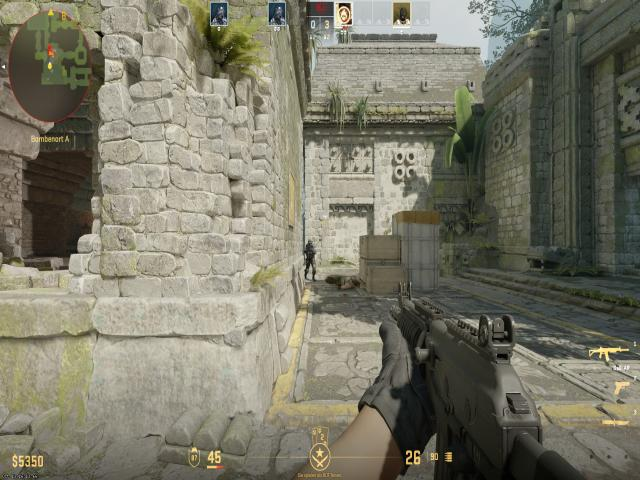CT: (303, 232, 318, 286)
CT-Head: (305, 236, 313, 250)
Dead: (326, 272, 361, 292)
